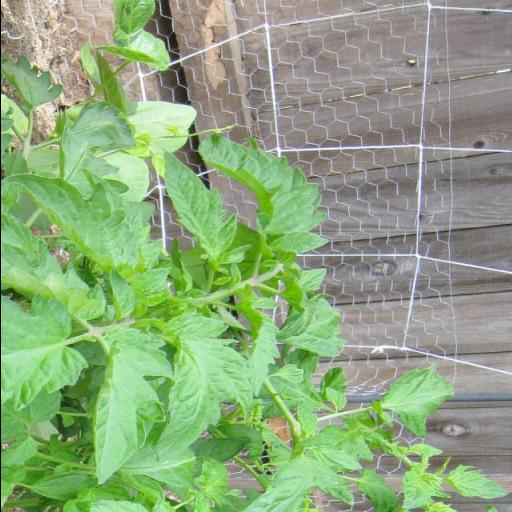Healthy: (0, 170, 172, 292), (196, 130, 328, 266), (154, 314, 236, 462), (92, 331, 170, 479), (161, 148, 252, 273), (242, 421, 361, 512), (0, 233, 105, 319), (371, 362, 452, 434), (233, 283, 279, 397), (30, 472, 100, 501)
